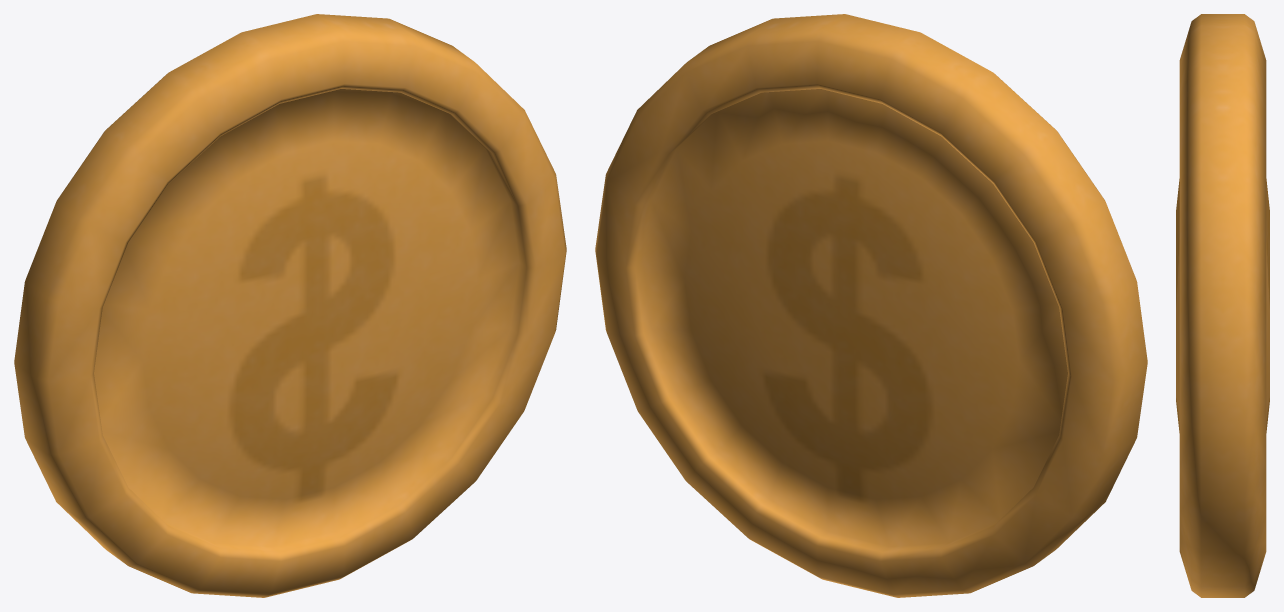
The model's file is coin2.dae.
3 views of the same model, side by side, from view 1: azimuth 30°, elevation 25°; view 2: azimuth 150°, elevation 25°; view 3: azimuth 270°, elevation 25° (orthographic). The views are drawn at different scales.
Visible parts, largest first — view 1: coin2; view 2: coin2; view 3: coin2.
Boxes of the visible parts, bbox=[...] form: coin2: bbox=[14, 14, 566, 597]; coin2: bbox=[595, 14, 1147, 597]; coin2: bbox=[1176, 14, 1269, 597].
Size of the model in its own units: 0.0303 by 0.03 by 0.00487.
Materials: 1 (1 with a texture image).
